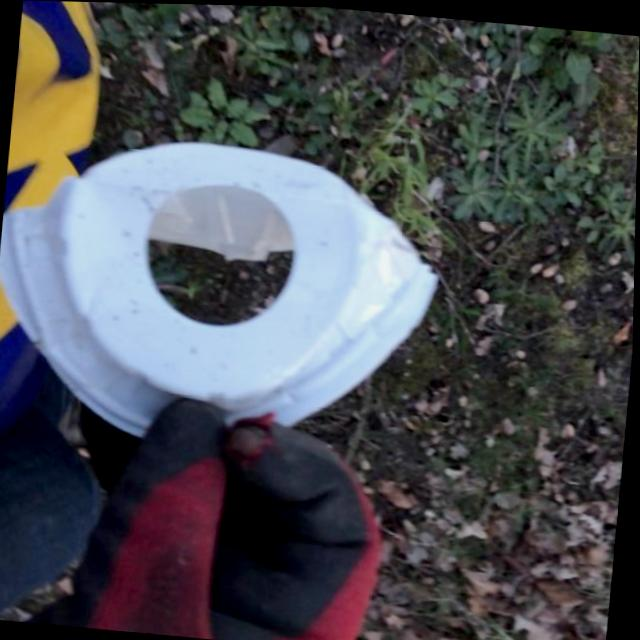Paper: (0, 122, 457, 466)
